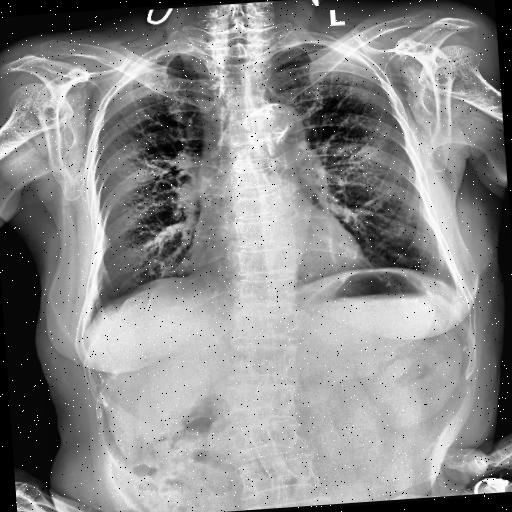0- Aortic enlargement: (243, 102, 307, 164), (246, 100, 305, 149), (258, 102, 308, 156)
